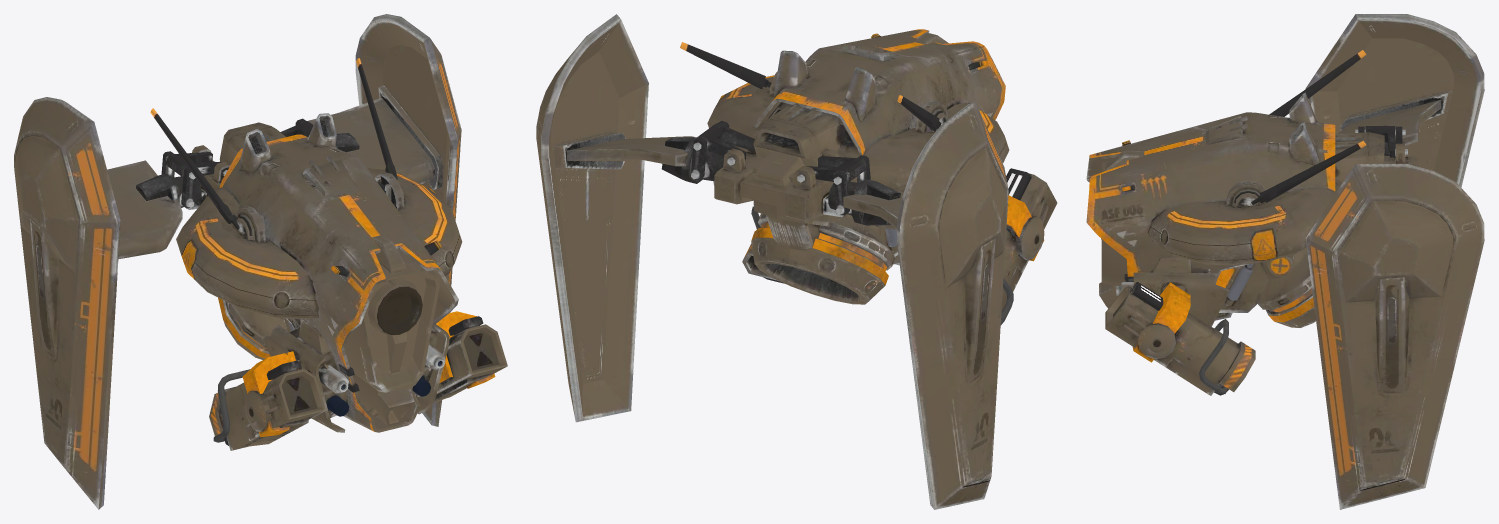
Rendered from Fighter_drone-c.glb.
The picture shows the model from 3 angles, left to right: view 1: azimuth 30°, elevation 25°; view 2: azimuth 150°, elevation 25°; view 3: azimuth 270°, elevation 25°; orthographic projection. The views are drawn at different scales.
Visible parts, largest first — view 1: korpus_low_mask_low_0; view 2: korpus_low_mask_low_0; view 3: korpus_low_mask_low_0.
Boxes of the visible parts, x1,y1,x2,y2 form: korpus_low_mask_low_0: (14, 14, 507, 509); korpus_low_mask_low_0: (536, 14, 1057, 509); korpus_low_mask_low_0: (1086, 14, 1484, 509).
Size of the model in its own units: 1.67 by 1.5 by 1.56.
1 material, 1 textured.
